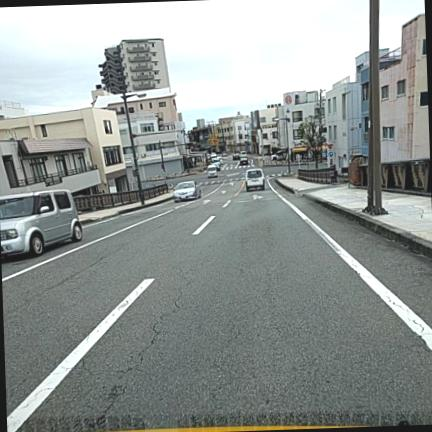Road: (1, 181, 431, 431)
